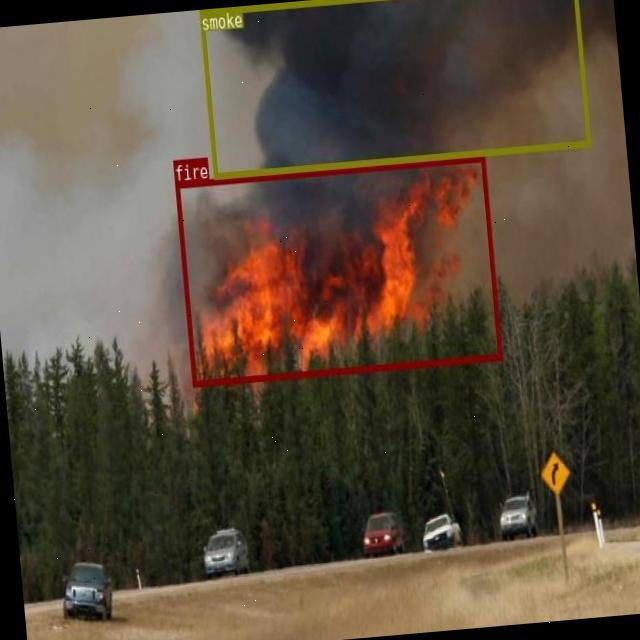fire: (174, 153, 502, 385)
smoke: (198, 0, 589, 178)
